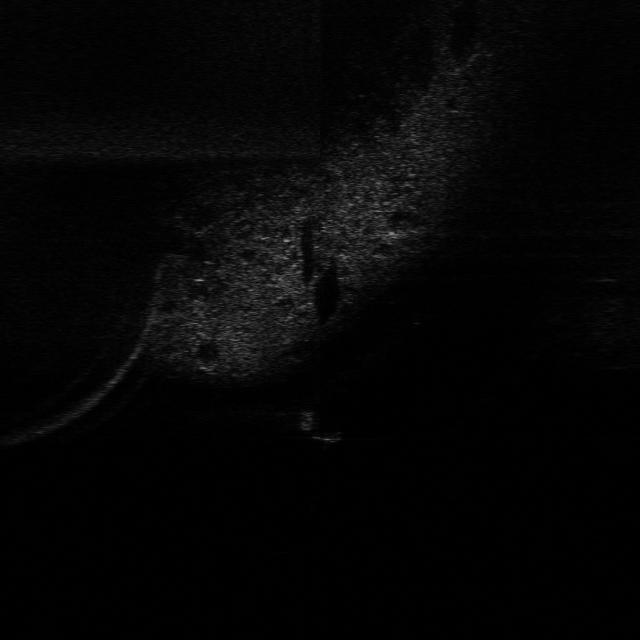cube: (312, 427, 347, 446)
cylinder: (293, 407, 322, 436)
